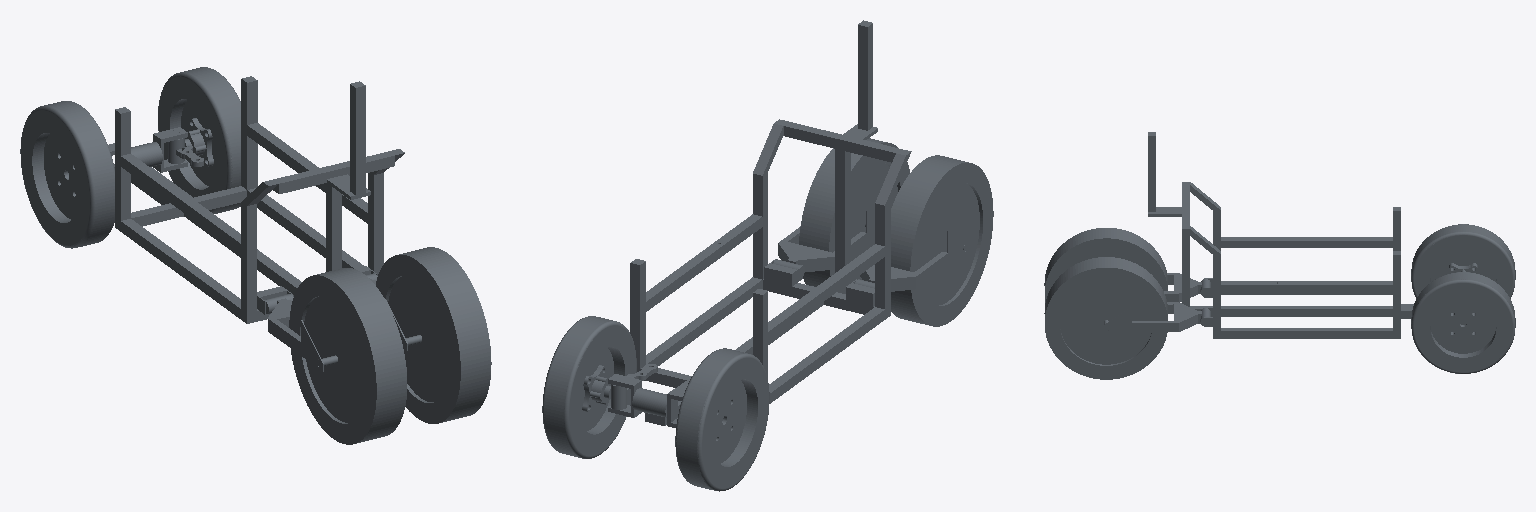
robot.urdf — Robot:
<?xml version="1.0" ?>
<robot name="Robot">
  <!--Generated by RobotCAD, a ROS Workbench for FreeCAD (https://github.com/drfenixion/freecad.robotcad)-->
  <link name="Front_left_roll">
    <visual>
      <!--Front_left_roll/Part__Feature003.-->
      <origin rpy="1.5707963267948966 -1.538050963924579 -3.1415926535897847" xyz="-0.00452633 0.0 0.14333"/>
      <geometry>
        <mesh filename="package://python_pkg/urdf/meshes/assem2_simplefrontwheelsteering2_rollingv1_eoyyh7.dae"/>
      </geometry>
    </visual>
    <collision>
      <!--col__Front_left_roll001__col_Part__BoundBox/col_Part__BoundBox.-->
      <origin rpy="1.5707963267948934 -1.5380509639245792 -3.1415926535897913" xyz="-0.000492801 0.0 -0.0279859"/>
      <geometry>
        <box size="0.058397538501074965 0.10176114898645036 0.10099680372187196"/>
      </geometry>
    </collision>
    <inertial>
      <mass value="2.1838449851955257"/>
      <origin rpy="1.5707963267948934 -1.5380509639245792 -3.1415926535897913" xyz="0.0 0.0 -0.0329126"/>
      <inertia ixx="0.002293056544946569" ixy="2.038041730016155e-05" ixz="-9.813595077571021e-20" iyy="0.0016715556746155138" iyz="4.0916586841603e-20" izz="0.0016708880718241967"/>
    </inertial>
  </link>
  <link name="Front_right_roll">
    <visual>
      <!--Front_right_roll/Part__Feature006.-->
      <origin rpy="-1.5707963267948966 -1.5707963267948946 0" xyz="-0.00102633 0.0 -0.143421"/>
      <geometry>
        <mesh filename="package://python_pkg/urdf/meshes/assem2_simplefrontwheelsteering4_rollingv1_krygwb.dae"/>
      </geometry>
    </visual>
    <collision>
      <!--col__Front_right_roll001__col_Part001__BoundBox/col_Part001__BoundBox.-->
      <origin rpy="-1.570796326794897 -1.570796326794895 0" xyz="0.0 0.0 0.02275"/>
      <geometry>
        <box size="0.04550000000000017 0.10099680372187192 0.10099680372187192"/>
      </geometry>
    </collision>
    <inertial>
      <mass value="1.6278357231918101"/>
      <origin rpy="-1.570796326794897 -1.570796326794895 0" xyz="0.0 0.0 0.0268895"/>
      <inertia ixx="0.0015496639998995618" ixy="1.4128897190093994e-12" ixz="-8.056536202346381e-15" iyy="0.001062589259053609" iyz="-7.056504393492874e-14" izz="0.0010625892590923067"/>
    </inertial>
  </link>
  <link name="Front_left_steer">
    <visual>
      <!--Simple - Front wheel steering 2 v005/Part__Feature001.-->
      <origin rpy="0 0 8.273822301327046e-08" xyz="0.043 0.0 0.017"/>
      <geometry>
        <mesh filename="package://python_pkg/urdf/meshes/assem2_simplefrontwheelsteering2v3_a7kkrv.dae"/>
      </geometry>
    </visual>
    <visual>
      <!--Simple - Front wheel steering 2 v005/Part__Feature002.-->
      <origin rpy="0 0 8.273822301327046e-08" xyz="0.043 0.0 0.017"/>
      <geometry>
        <mesh filename="package://python_pkg/urdf/meshes/assem2_simplefrontwheelsteering2v004_gaogxh.dae"/>
      </geometry>
    </visual>
    <collision>
      <!--col__Front_left_steer__col_Simple___Front_wheel_steering_2_v3__BoundBox/col_Simple___Front_wheel_steering_2_v3__BoundBox.-->
      <origin rpy="0 0 8.273822301327046e-08" xyz="-0.00212565 -0.0400037 -0.047"/>
      <geometry>
        <box size="0.0687486980688743 0.12299110178847904 0.094"/>
      </geometry>
    </collision>
    <inertial>
      <mass value="1.167914780485022"/>
      <origin rpy="0 0 8.273822301327046e-08" xyz="-0.00173792 -0.0117858 -0.0445015"/>
      <inertia ixx="0.0012973987834853493" ixy="0.00011348071290208852" ixz="-2.866671324022998e-05" iyy="0.000662086767491547" iyz="0.000176772181412216" izz="0.0010481834107240056"/>
    </inertial>
  </link>
  <link name="Front_right_steer">
    <visual>
      <!--Simple - Front wheel steering 4 v006/Part__Feature004.-->
      <origin rpy="0 0 9.422110222169323e-09" xyz="0.0 0.0 -0.081"/>
      <geometry>
        <mesh filename="package://python_pkg/urdf/meshes/assem2_simplefrontwheelsteering4v4_8kertd.dae"/>
      </geometry>
    </visual>
    <visual>
      <!--Simple - Front wheel steering 4 v006/Part__Feature005.-->
      <origin rpy="0 0 9.422110222169323e-09" xyz="0.0 0.0 -0.081"/>
      <geometry>
        <mesh filename="package://python_pkg/urdf/meshes/assem2_simplefrontwheelsteering4v005_esg1w7.dae"/>
      </geometry>
    </visual>
    <collision>
      <!--col__Front_right_steer__col_Simple___Front_wheel_steering_4_v4__BoundBox/col_Simple___Front_wheel_steering_4_v4__BoundBox.-->
      <origin rpy="0 0 9.422110222169323e-09" xyz="0.00137654 -0.0675041 -0.047"/>
      <geometry>
        <box size="0.07024692879790828 0.17799183660103646 0.094"/>
      </geometry>
    </collision>
    <inertial>
      <mass value="1.314527369841654"/>
      <origin rpy="0 0 9.422110222169323e-09" xyz="-0.000380064 -0.0244829 -0.0422821"/>
      <inertia ixx="0.0030858280301530733" ixy="-0.00039485938990719476" ixz="7.809850883879987e-05" iyy="0.0007722469691076277" iyz="0.00047260066398181695" izz="0.0028389292941796494"/>
    </inertial>
  </link>
  <link name="Front_left_wheel">
    <visual>
      <!--Front_left_wheel/Part__Feature098.-->
      <origin rpy="1.57079632679489 -1.538050963924579 1.5707963317235805" xyz="0.0 0.00452633 0.19886"/>
      <geometry>
        <mesh filename="package://python_pkg/urdf/meshes/assem2_newfrontwheelv004_hji4ec.dae"/>
      </geometry>
    </visual>
    <collision>
      <!--col__Front_left_wheel001__col_Part003__BoundBox/col_Part003__BoundBox.-->
      <origin rpy="1.5707963267948966 -1.5380509639245783 1.570796331723567" xyz="-1.57943e-05 0.0 -0.007"/>
      <geometry>
        <box size="0.09142207605351382 0.3717028770621375 0.3699684113347397"/>
      </geometry>
    </collision>
    <inertial>
      <mass value="44.25908464897823"/>
      <origin rpy="1.5707963267948966 -1.5380509639245783 1.570796331723567" xyz="0.0 0.0 -0.007"/>
      <inertia ixx="0.9804435437863307" ixy="0.015366205268426284" ixz="3.169956922903403e-16" iyy="0.5118510803759925" iyz="-9.4192526028218e-18" izz="0.5113477284878556"/>
    </inertial>
  </link>
  <link name="Front_right_wheel">
    <visual>
      <!--Front_right_wheel/Part__Feature097.-->
      <origin rpy="-3.1415926477240976 -1.5707963267948963 0" xyz="0.0 0.00102633 -0.188921"/>
      <geometry>
        <mesh filename="package://python_pkg/urdf/meshes/assem2_newfrontwheelv3_qklj1m.dae"/>
      </geometry>
    </visual>
    <collision>
      <!--col__Front_right_wheel001__col_Part002__BoundBox/col_Part002__BoundBox.-->
      <origin rpy="-3.1415926477240976 -1.5707963267948963 0" xyz="1.57943e-05 0.0 0.007"/>
      <geometry>
        <box size="0.08000000000000049 0.37 0.3699684113347397"/>
      </geometry>
    </collision>
    <inertial>
      <mass value="44.259084648978224"/>
      <origin rpy="-3.1415926477240976 -1.5707963267948963 0" xyz="0.0 0.0 0.007"/>
      <inertia ixx="0.9809468956744756" ixy="-5.705771186993779e-16" ixz="-2.128984438732579e-16" iyy="0.5113477284878473" iyz="1.970802251724328e-18" izz="0.5113477284878554"/>
    </inertial>
  </link>
  <link name="Main_frame">
    <visual>
      <!--Frame018/Part__Feature007.-->
      <origin rpy="0 0 0" xyz="0.0 -0.015 0.0"/>
      <geometry>
        <mesh filename="package://python_pkg/urdf/meshes/assem2_frame_ytd0yn.dae"/>
      </geometry>
    </visual>
    <visual>
      <!--Frame018/Part__Feature008.-->
      <origin rpy="0 0 0" xyz="0.0 -0.015 0.0"/>
      <geometry>
        <mesh filename="package://python_pkg/urdf/meshes/assem2_frame001_6e0oc1.dae"/>
      </geometry>
    </visual>
    <visual>
      <!--Frame018/Part__Feature009.-->
      <origin rpy="0 0 0" xyz="0.0 -0.015 0.0"/>
      <geometry>
        <mesh filename="package://python_pkg/urdf/meshes/assem2_frame002_npb5ar.dae"/>
      </geometry>
    </visual>
    <visual>
      <!--Frame018/Part__Feature010.-->
      <origin rpy="0 0 0" xyz="0.0 -0.015 0.0"/>
      <geometry>
        <mesh filename="package://python_pkg/urdf/meshes/assem2_frame003_301pnj.dae"/>
      </geometry>
    </visual>
    <visual>
      <!--Frame018/Part__Feature011.-->
      <origin rpy="0 0 0" xyz="0.0 -0.015 0.0"/>
      <geometry>
        <mesh filename="package://python_pkg/urdf/meshes/assem2_frame004_cjnhmb.dae"/>
      </geometry>
    </visual>
    <visual>
      <!--Frame018/Part__Feature012.-->
      <origin rpy="0 0 0" xyz="0.0 -0.015 0.0"/>
      <geometry>
        <mesh filename="package://python_pkg/urdf/meshes/assem2_frame005_anuq6v.dae"/>
      </geometry>
    </visual>
    <visual>
      <!--Frame018/Part__Feature013.-->
      <origin rpy="0 0 0" xyz="0.0 -0.015 0.0"/>
      <geometry>
        <mesh filename="package://python_pkg/urdf/meshes/assem2_frame006_lbnbg2.dae"/>
      </geometry>
    </visual>
    <visual>
      <!--Frame018/Part__Feature014.-->
      <origin rpy="0 0 0" xyz="0.0 -0.015 0.0"/>
      <geometry>
        <mesh filename="package://python_pkg/urdf/meshes/assem2_frame007_kbdkwf.dae"/>
      </geometry>
    </visual>
    <visual>
      <!--Frame018/Part__Feature015.-->
      <origin rpy="0 0 0" xyz="0.0 -0.015 0.0"/>
      <geometry>
        <mesh filename="package://python_pkg/urdf/meshes/assem2_frame008_clgmzd.dae"/>
      </geometry>
    </visual>
    <visual>
      <!--Frame018/Part__Feature016.-->
      <origin rpy="0 0 0" xyz="0.0 -0.015 0.0"/>
      <geometry>
        <mesh filename="package://python_pkg/urdf/meshes/assem2_frame009_fvn2bw.dae"/>
      </geometry>
    </visual>
    <visual>
      <!--Frame018/Part__Feature017.-->
      <origin rpy="0 0 0" xyz="0.0 -0.015 0.0"/>
      <geometry>
        <mesh filename="package://python_pkg/urdf/meshes/assem2_frame010_ckf0cr.dae"/>
      </geometry>
    </visual>
    <visual>
      <!--Frame018/Part__Feature018.-->
      <origin rpy="0 0 0" xyz="0.0 -0.015 0.0"/>
      <geometry>
        <mesh filename="package://python_pkg/urdf/meshes/assem2_frame011_4fykzd.dae"/>
      </geometry>
    </visual>
    <visual>
      <!--Frame018/Part__Feature019.-->
      <origin rpy="0 0 0" xyz="0.0 -0.015 0.0"/>
      <geometry>
        <mesh filename="package://python_pkg/urdf/meshes/assem2_frame012_v4ynyz.dae"/>
      </geometry>
    </visual>
    <visual>
      <!--Frame018/Part__Feature020.-->
      <origin rpy="0 0 0" xyz="0.0 -0.015 0.0"/>
      <geometry>
        <mesh filename="package://python_pkg/urdf/meshes/assem2_frame013_y6fkrf.dae"/>
      </geometry>
    </visual>
    <visual>
      <!--Frame018/Part__Feature021.-->
      <origin rpy="0 0 0" xyz="0.0 -0.015 0.0"/>
      <geometry>
        <mesh filename="package://python_pkg/urdf/meshes/assem2_frame014_zslmgk.dae"/>
      </geometry>
    </visual>
    <visual>
      <!--Frame018/Part__Feature022.-->
      <origin rpy="0 0 0" xyz="0.0 -0.015 0.0"/>
      <geometry>
        <mesh filename="package://python_pkg/urdf/meshes/assem2_frame015_bcy07r.dae"/>
      </geometry>
    </visual>
    <visual>
      <!--Frame018/Part__Feature023.-->
      <origin rpy="0 0 0" xyz="0.0 -0.015 0.0"/>
      <geometry>
        <mesh filename="package://python_pkg/urdf/meshes/assem2_frame016_i7txbl.dae"/>
      </geometry>
    </visual>
    <visual>
      <!--Frame018/Part__Feature024.-->
      <origin rpy="0 0 0" xyz="0.0 -0.015 0.0"/>
      <geometry>
        <mesh filename="package://python_pkg/urdf/meshes/assem2_frame017_gu3wnv.dae"/>
      </geometry>
    </visual>
    <collision>
      <!--col__Main_frame__col_Frame__BoundBox/col_Frame__BoundBox.-->
      <origin rpy="0 0 0" xyz="-0.560002 0.324998 0.0"/>
      <geometry>
        <box size="1.1200049243408299 0.7099950475862096 0.4"/>
      </geometry>
    </collision>
    <inertial>
      <mass value="48.349253520452876"/>
      <origin rpy="0 0 0" xyz="-0.617799 0.115275 -7.01667e-05"/>
      <inertia ixx="2.2115596061662948" ixy="1.1733128097790206" ixz="-0.0001414885135281086" iyy="5.579843022446753" iyz="0.00017373462697383213" izz="5.744027298109855"/>
    </inertial>
  </link>
  <link name="Rear_right">
    <visual>
      <!--Simple - Rear Wheel Assemble v1/Part__Feature025.-->
      <origin rpy="1.5707963267948968 0 3.141592653589793" xyz="-0.0560854 0.0430823 -0.0935031"/>
      <geometry>
        <mesh filename="package://python_pkg/urdf/meshes/assem2_component2_zt7ehm.dae"/>
      </geometry>
    </visual>
    <visual>
      <!--Simple - Rear Wheel Assemble v1/Part__Feature026.-->
      <origin rpy="1.5707963267948968 0 3.141592653589793" xyz="-0.0560854 0.0430823 -0.0935031"/>
      <geometry>
        <mesh filename="package://python_pkg/urdf/meshes/assem2_component1_03rzj7.dae"/>
      </geometry>
    </visual>
    <visual>
      <!--Simple - Rear Wheel Assemble v1/Part__Feature027.-->
      <origin rpy="1.5707963267948968 0 3.141592653589793" xyz="-0.0560854 0.0430823 -0.0935031"/>
      <geometry>
        <mesh filename="package://python_pkg/urdf/meshes/assem2_component3_keuldv.dae"/>
      </geometry>
    </visual>
    <visual>
      <!--Simple - Rear Wheel Assemble v1/Component4.Part__Feature028.-->
      <origin rpy="1.5707963267948968 0 3.141592653589793" xyz="-0.0560854 0.0430823 -0.0935031"/>
      <geometry>
        <mesh filename="package://python_pkg/urdf/meshes/assem2_component4_kfvl9w.dae"/>
      </geometry>
    </visual>
    <visual>
      <!--Simple - Rear Wheel Assemble v1/Component4.Part__Feature029.-->
      <origin rpy="1.5707963267948968 0 3.141592653589793" xyz="-0.0560854 0.0430823 -0.0935031"/>
      <geometry>
        <mesh filename="package://python_pkg/urdf/meshes/assem2_component005_ixwyeq.dae"/>
      </geometry>
    </visual>
    <visual>
      <!--Simple - Rear Wheel Assemble v1/Part__Feature030.-->
      <origin rpy="1.5707963267948968 0 3.141592653589793" xyz="-0.0560854 0.0430823 -0.0935031"/>
      <geometry>
        <mesh filename="package://python_pkg/urdf/meshes/assem2_component5_usjylo.dae"/>
      </geometry>
    </visual>
    <collision>
      <!--col__Rear_right__col_Simple___Rear_Wheel_Assemble_v1__BoundBox/col_Simple___Rear_Wheel_Assemble_v1__BoundBox.-->
      <origin rpy="1.5707963267948968 0 3.141592653589793" xyz="-0.214038 0.05 -0.0613875"/>
      <geometry>
        <box size="0.4280754017340594 0.17298291613933567 0.10000000000000184"/>
      </geometry>
    </collision>
    <inertial>
      <mass value="6.229883199130227"/>
      <origin rpy="1.5707963267948968 0 3.141592653589793" xyz="-0.147928 0.0192998 -0.0618113"/>
      <inertia ixx="0.017710588753046094" ixy="-0.00010100990035804327" ixz="-0.0009652026514045645" iyy="0.052183008074908076" iyz="-3.2701145210100813e-06" izz="0.06809003993202267"/>
    </inertial>
  </link>
  <link name="Rear_left">
    <visual>
      <!--Simple - Rear Wheel Assemble v002/Part__Feature031.-->
      <origin rpy="1.5707963267948968 0 3.141592653589793" xyz="-0.0560854 0.0430823 0.0304969"/>
      <geometry>
        <mesh filename="package://python_pkg/urdf/meshes/assem2_component007_kjdcuc.dae"/>
      </geometry>
    </visual>
    <visual>
      <!--Simple - Rear Wheel Assemble v002/Part__Feature032.-->
      <origin rpy="1.5707963267948968 0 3.141592653589793" xyz="-0.0560854 0.0430823 0.0304969"/>
      <geometry>
        <mesh filename="package://python_pkg/urdf/meshes/assem2_component008_piwc6e.dae"/>
      </geometry>
    </visual>
    <visual>
      <!--Simple - Rear Wheel Assemble v002/Part__Feature033.-->
      <origin rpy="1.5707963267948968 0 3.141592653589793" xyz="-0.0560854 0.0430823 0.0304969"/>
      <geometry>
        <mesh filename="package://python_pkg/urdf/meshes/assem2_component009_1m8g3o.dae"/>
      </geometry>
    </visual>
    <visual>
      <!--Simple - Rear Wheel Assemble v002/Component005.Part__Feature034.-->
      <origin rpy="1.5707963267948968 0 3.141592653589793" xyz="-0.0560854 0.0430823 0.0304969"/>
      <geometry>
        <mesh filename="package://python_pkg/urdf/meshes/assem2_component010_xuasif.dae"/>
      </geometry>
    </visual>
    <visual>
      <!--Simple - Rear Wheel Assemble v002/Component005.Part__Feature035.-->
      <origin rpy="1.5707963267948968 0 3.141592653589793" xyz="-0.0560854 0.0430823 0.0304969"/>
      <geometry>
        <mesh filename="package://python_pkg/urdf/meshes/assem2_component011_x6lyi6.dae"/>
      </geometry>
    </visual>
    <visual>
      <!--Simple - Rear Wheel Assemble v002/Part__Feature036.-->
      <origin rpy="1.5707963267948968 0 3.141592653589793" xyz="-0.0560854 0.0430823 0.0304969"/>
      <geometry>
        <mesh filename="package://python_pkg/urdf/meshes/assem2_component013_xkbtpb.dae"/>
      </geometry>
    </visual>
    <collision>
      <!--col__Rear_left__col_Simple___Rear_Wheel_Assemble_v002__BoundBox/col_Simple___Rear_Wheel_Assemble_v002__BoundBox.-->
      <origin rpy="1.5707963267948968 0 3.141592653589793" xyz="-0.214038 0.05 0.0626125"/>
      <geometry>
        <box size="0.4280754017340595 0.17298291613933564 0.10000000000000184"/>
      </geometry>
    </collision>
    <inertial>
      <mass value="6.229883199130227"/>
      <origin rpy="1.5707963267948968 0 3.141592653589793" xyz="-0.147928 0.0192998 0.0621887"/>
      <inertia ixx="0.017710588753046094" ixy="-0.00010100990035804327" ixz="-0.0009652026514045645" iyy="0.052183008074908076" iyz="-3.2701145210100813e-06" izz="0.06809003993202267"/>
    </inertial>
  </link>
  <link name="Rear_right_wheel">
    <visual>
      <!--Rear_right_wheel/Part__Feature100.-->
      <origin rpy="1.5707963267887324 -1.5661134847098281 0" xyz="-1.26824 -0.015 -0.204074"/>
      <geometry>
        <mesh filename="package://python_pkg/urdf/meshes/assem2_simplerearwheel001_b0zbxk.dae"/>
      </geometry>
    </visual>
    <collision>
      <!--col__Rear_right_wheel001__col_Part004__BoundBox/col_Part004__BoundBox.-->
      <origin rpy="1.570796326788685 -1.5661134847098284 0" xyz="0.0 0.0 -0.085839"/>
      <geometry>
        <box size="0.17176977413851932 0.44041662987377256 0.4398329350910321"/>
      </geometry>
    </collision>
    <inertial>
      <mass value="93.56677606552037"/>
      <origin rpy="1.570796326788685 -1.5661134847098284 0" xyz="0.0 0.0 -0.085839"/>
      <inertia ixx="2.399287397977854" ixy="0.005376912482757105" ixz="-4.683752212402574e-16" iyy="1.2511053383815118" iyz="1.785571961519929e-17" izz="1.2510801589654064"/>
    </inertial>
  </link>
  <link name="Rear_left_wheel">
    <visual>
      <!--Rear_left_wheel/Part__Feature099.-->
      <origin rpy="1.5707963267949914 -1.5661134847117288 0" xyz="-1.26713 -0.0151319 0.213602"/>
      <geometry>
        <mesh filename="package://python_pkg/urdf/meshes/assem2_simplerearwheel_hfbdem.dae"/>
      </geometry>
    </visual>
    <collision>
      <!--col__Rear_left_wheel001__col_Part005__BoundBox/col_Part005__BoundBox.-->
      <origin rpy="1.5707963267948493 -1.5661134847117282 0" xyz="0.0 0.0 0.085839"/>
      <geometry>
        <box size="0.17176977413851935 0.4404166298737723 0.43983293509216903"/>
      </geometry>
    </collision>
    <inertial>
      <mass value="93.56677606552036"/>
      <origin rpy="1.5707963267948493 -1.5661134847117282 0" xyz="0.0 0.0 0.085839"/>
      <inertia ixx="2.3992873979778526" ixy="0.005376912482757417" ixz="-9.453466951901102e-16" iyy="1.2511053383815105" iyz="4.961477371477453e-18" izz="1.251080158965405"/>
    </inertial>
  </link>
  <link name="Front_base">
    <visual>
      <!--Simple - Front wheel steering v6/Part__Feature.-->
      <origin rpy="0 0 0" xyz="0.0 0.0 0.0"/>
      <geometry>
        <mesh filename="package://python_pkg/urdf/meshes/assem2_base_link_mxkusq.dae"/>
      </geometry>
    </visual>
    <collision>
      <!--col__Front_base__col_Simple___Front_wheel_steering_v6__BoundBox/col_Simple___Front_wheel_steering_v6__BoundBox.-->
      <origin rpy="0 0 0" xyz="0.0 0.0 0.0"/>
      <geometry>
        <box size="0.26 0.059988959108482974 0.094"/>
      </geometry>
    </collision>
    <inertial>
      <mass value="3.722656813869633"/>
      <origin rpy="0 0 0" xyz="0.0 -3.24281e-05 0.0"/>
      <inertia ixx="0.0032149214833744567" ixy="-2.8328383608603773e-20" ixz="1.1232609967339066e-19" iyy="0.01466240881186391" iyz="4.868988252337179e-21" izz="0.012869747769395408"/>
    </inertial>
  </link>
  <joint name="Front_bas" type="fixed">
    <parent link="Front_base"/>
    <child link="Main_frame"/>
    <origin rpy="1.5707963267948966 0 1.5707963267948966" xyz="0.0 0.0 -0.03"/>
  </joint>
  <joint name="Front_left_stee" type="revolute">
    <parent link="Front_base"/>
    <child link="Front_left_steer"/>
    <origin rpy="0 0 -8.228437215707387e-08" xyz="-0.106921 0.00102633 0.047"/>
    <axis xyz="0 0 1"/>
    <limit effort="0.0" lower="0.0" upper="0.0" velocity="0.0"/>
  </joint>
  <joint name="Front_right_stee" type="revolute">
    <parent link="Front_base"/>
    <child link="Front_right_steer"/>
    <origin rpy="0 0 8.228437215707387e-08" xyz="0.106921 0.00102633 0.047"/>
    <axis xyz="0 0 1"/>
    <limit effort="0.0" lower="0.0" upper="0.0" velocity="0.0"/>
  </joint>
  <joint name="Front_left_rol" type="revolute">
    <parent link="Front_left_steer"/>
    <child link="Front_left_roll"/>
    <origin rpy="1.5707963267948941 0 1.5707964095331197" xyz="-0.0365 0.0 -0.047"/>
    <axis xyz="0 0 1"/>
    <limit effort="0.0" lower="0.0" upper="0.0" velocity="0.0"/>
  </joint>
  <joint name="Front_right_rol" type="revolute">
    <parent link="Front_right_steer"/>
    <child link="Front_right_roll"/>
    <origin rpy="1.5707963267948968 8.221368752447944e-09 1.5707963362170076" xyz="0.0365 0.0 -0.047"/>
    <axis xyz="0 0 1"/>
    <limit effort="0.0" lower="0.0" upper="0.0" velocity="0.0"/>
  </joint>
  <joint name="Front_left_whee" type="fixed">
    <parent link="Front_left_roll"/>
    <child link="Front_left_wheel"/>
    <origin rpy="0 0 0" xyz="0.0 0.0 -0.05553"/>
  </joint>
  <joint name="Front_right_whee" type="fixed">
    <parent link="Front_right_roll"/>
    <child link="Front_right_wheel"/>
    <origin rpy="0 0 0" xyz="0.0 0.0 0.0455"/>
  </joint>
  <joint name="Rear_lef" type="fixed">
    <parent link="Main_frame"/>
    <child link="Rear_left"/>
    <origin rpy="0 0 0" xyz="-0.86 0.0 -0.185"/>
  </joint>
  <joint name="Rear_right-" type="fixed">
    <parent link="Main_frame"/>
    <child link="Rear_right"/>
    <origin rpy="0 0 0" xyz="-0.86 0.0 0.185"/>
  </joint>
  <joint name="Rear_left_whee" type="revolute">
    <parent link="Rear_left"/>
    <child link="Rear_left_wheel"/>
    <origin rpy="0 -0.004682842083199169 -3.141592653589793" xyz="-0.408117 0.0148681 -0.0226655"/>
    <axis xyz="0 0 1"/>
    <limit effort="0.0" lower="0.0" upper="0.0" velocity="0.0"/>
  </joint>
  <joint name="Rear_right_whee" type="revolute">
    <parent link="Rear_right"/>
    <child link="Rear_right_wheel"/>
    <origin rpy="0 -0.004682842083331229 -3.141592653589793" xyz="-0.407272 0.015 0.0250103"/>
    <axis xyz="0 0 1"/>
    <limit effort="0.0" lower="0.0" upper="0.0" velocity="0.0"/>
  </joint>
</robot>

--- Facts derived from the render (not from the file) ---
Views: 3 orthographic renders of the robot side by side, from view 1: azimuth 30°, elevation 25°; view 2: azimuth 150°, elevation 25°; view 3: azimuth 270°, elevation 25°.
Model Robot with 12 links and 11 joints (6 revolute, 5 fixed), rooted at Front_base, posed every joint at zero.
Visible links, largest first — view 1: Main_frame, Rear_left_wheel, Rear_right_wheel, Front_left_wheel, Front_right_wheel, Rear_left, Front_base, Front_right_roll, Front_right_steer; view 2: Main_frame, Rear_left_wheel, Front_left_wheel, Front_right_wheel, Rear_right_wheel, Rear_right, Rear_left, Front_base, Front_right_roll, Front_right_steer; view 3: Main_frame, Rear_right_wheel, Front_right_wheel, Front_left_wheel, Rear_left_wheel, Rear_right, Rear_left.
Boxes of the visible links, x1=… form: Main_frame: x1=115, y1=76, x2=404, y2=323; Rear_left_wheel: x1=289, y1=268, x2=406, y2=444; Rear_right_wheel: x1=376, y1=247, x2=491, y2=423; Front_left_wheel: x1=20, y1=101, x2=114, y2=248; Front_right_wheel: x1=158, y1=67, x2=240, y2=213; Rear_left: x1=257, y1=286, x2=323, y2=371; Front_base: x1=108, y1=127, x2=187, y2=172; Front_right_roll: x1=185, y1=118, x2=213, y2=166; Front_right_steer: x1=168, y1=130, x2=203, y2=166; Main_frame: x1=630, y1=20, x2=911, y2=425; Rear_left_wheel: x1=891, y1=155, x2=993, y2=326; Front_left_wheel: x1=675, y1=348, x2=769, y2=491; Front_right_wheel: x1=542, y1=316, x2=636, y2=458; Rear_right_wheel: x1=799, y1=138, x2=909, y2=293; Rear_right: x1=764, y1=211, x2=874, y2=286; Rear_left: x1=846, y1=231, x2=968, y2=306; Front_base: x1=608, y1=374, x2=684, y2=427; Front_right_roll: x1=582, y1=365, x2=610, y2=411; Front_right_steer: x1=604, y1=364, x2=657, y2=409; Main_frame: x1=1148, y1=132, x2=1413, y2=338; Rear_right_wheel: x1=1044, y1=257, x2=1167, y2=379; Front_right_wheel: x1=1411, y1=272, x2=1515, y2=373; Front_left_wheel: x1=1411, y1=224, x2=1515, y2=312; Rear_left_wheel: x1=1044, y1=228, x2=1167, y2=302; Rear_right: x1=1101, y1=302, x2=1212, y2=331; Rear_left: x1=1164, y1=273, x2=1212, y2=302.
Size in the robot's own frame: 0.4819 by 1.67 by 0.8851 metres.
41 mesh visuals loaded from 41 distinct referenced files (41 Collada DAE).